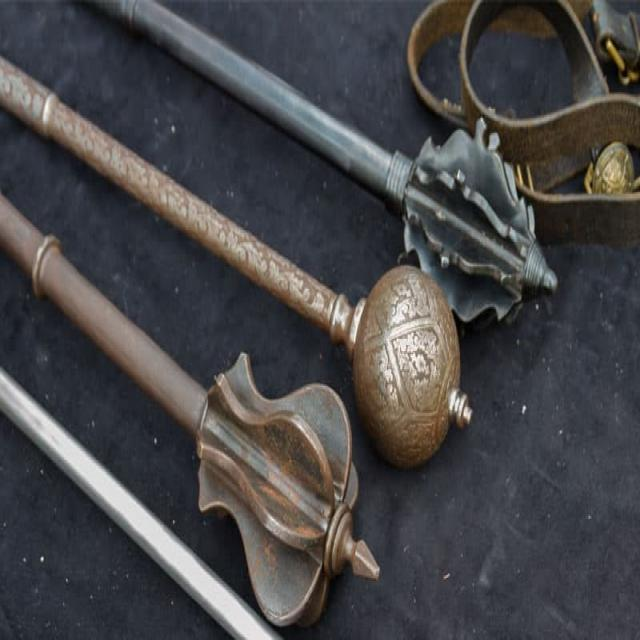mace: (1, 49, 474, 469), (1, 193, 383, 626), (78, 1, 562, 328)
